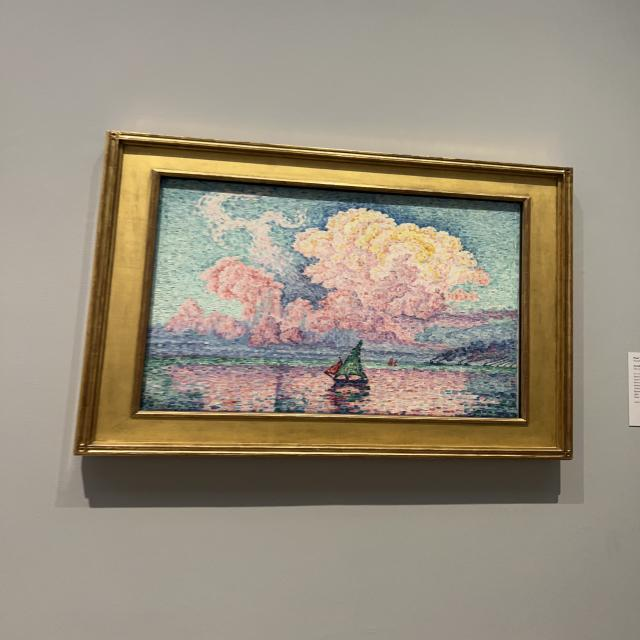sunrise: (144, 181, 518, 414)
